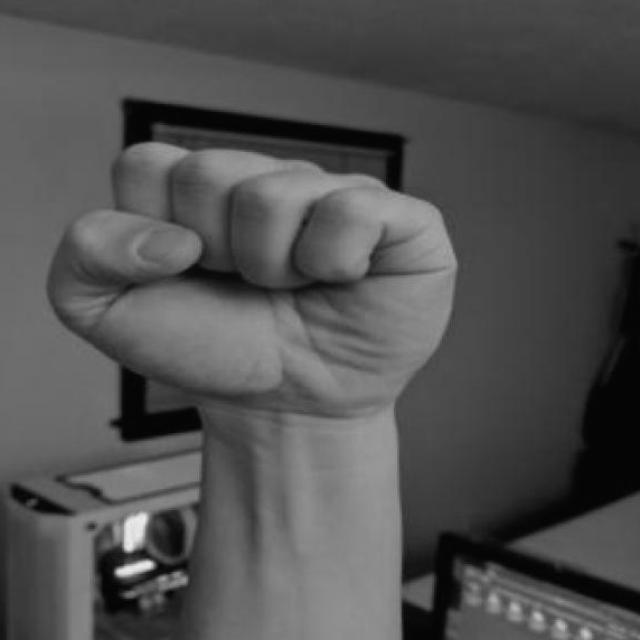S: (36, 136, 481, 441)
